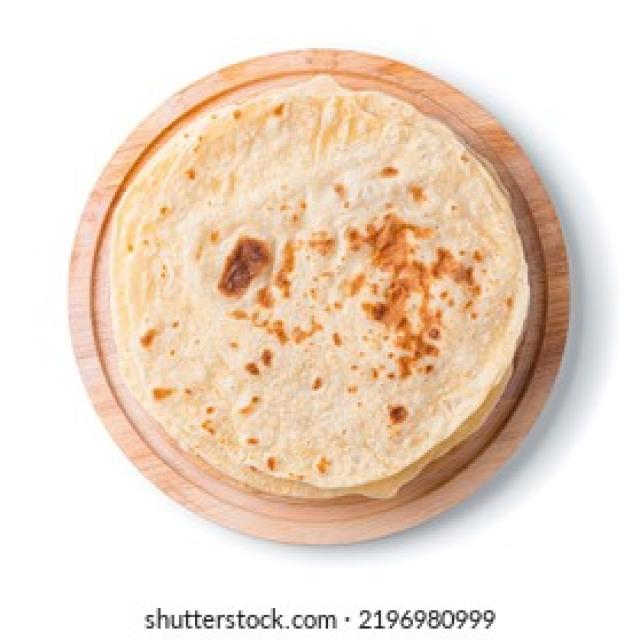ROTI: (101, 80, 525, 485)
